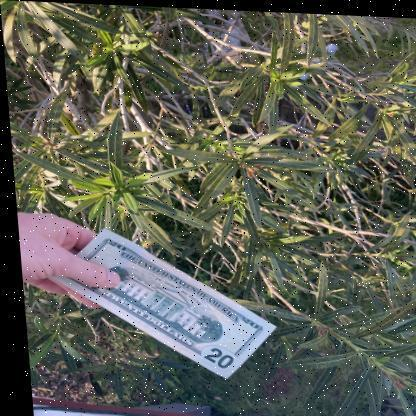dollar_back: (45, 226, 272, 378)
